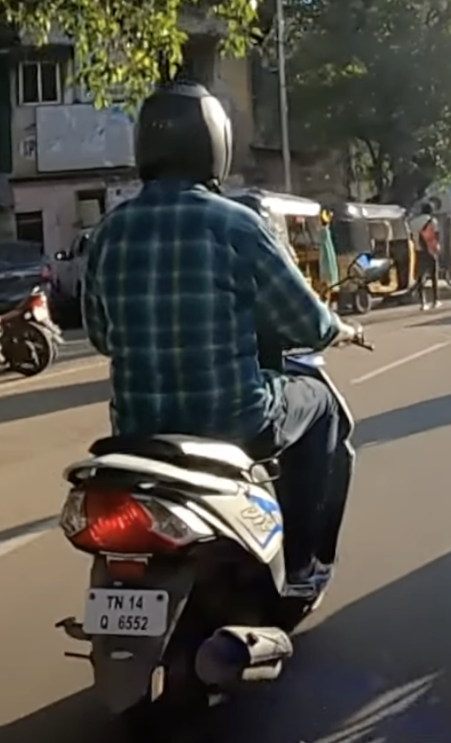motor: (59, 276, 374, 713)
number: (81, 588, 167, 635)
with helmet: (134, 80, 230, 184)
